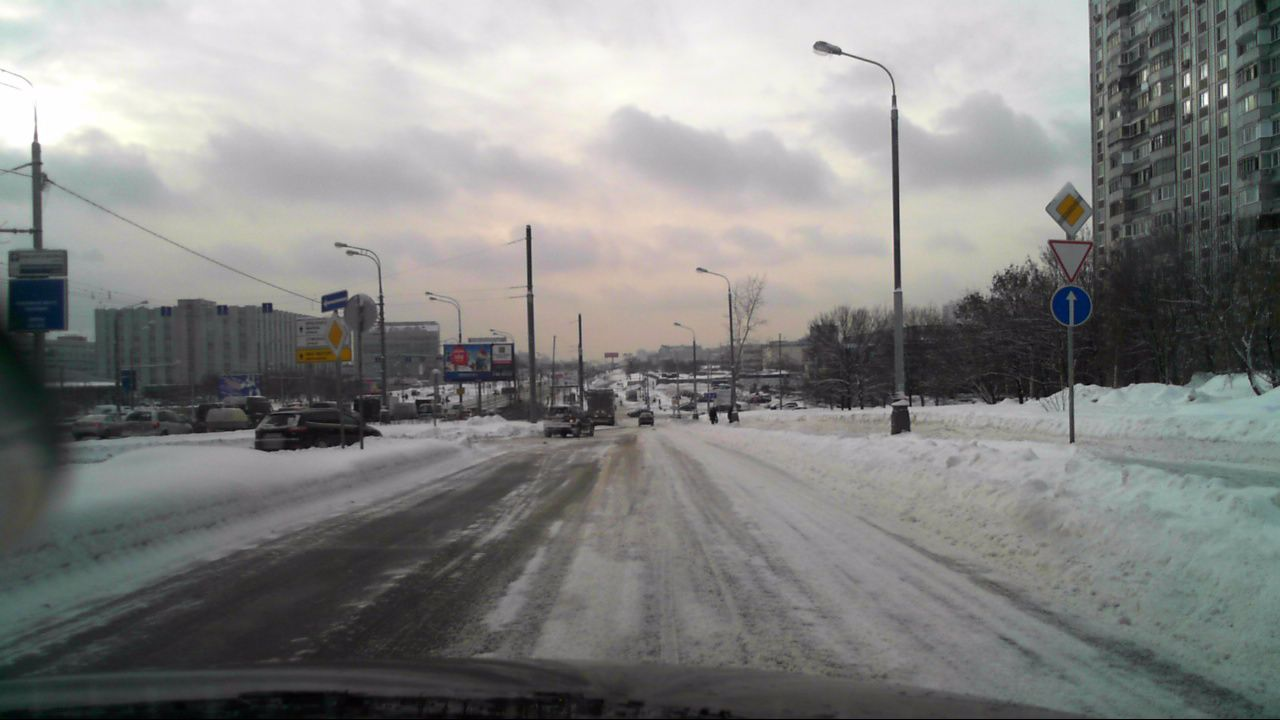main road: (1045, 183, 1091, 238)
